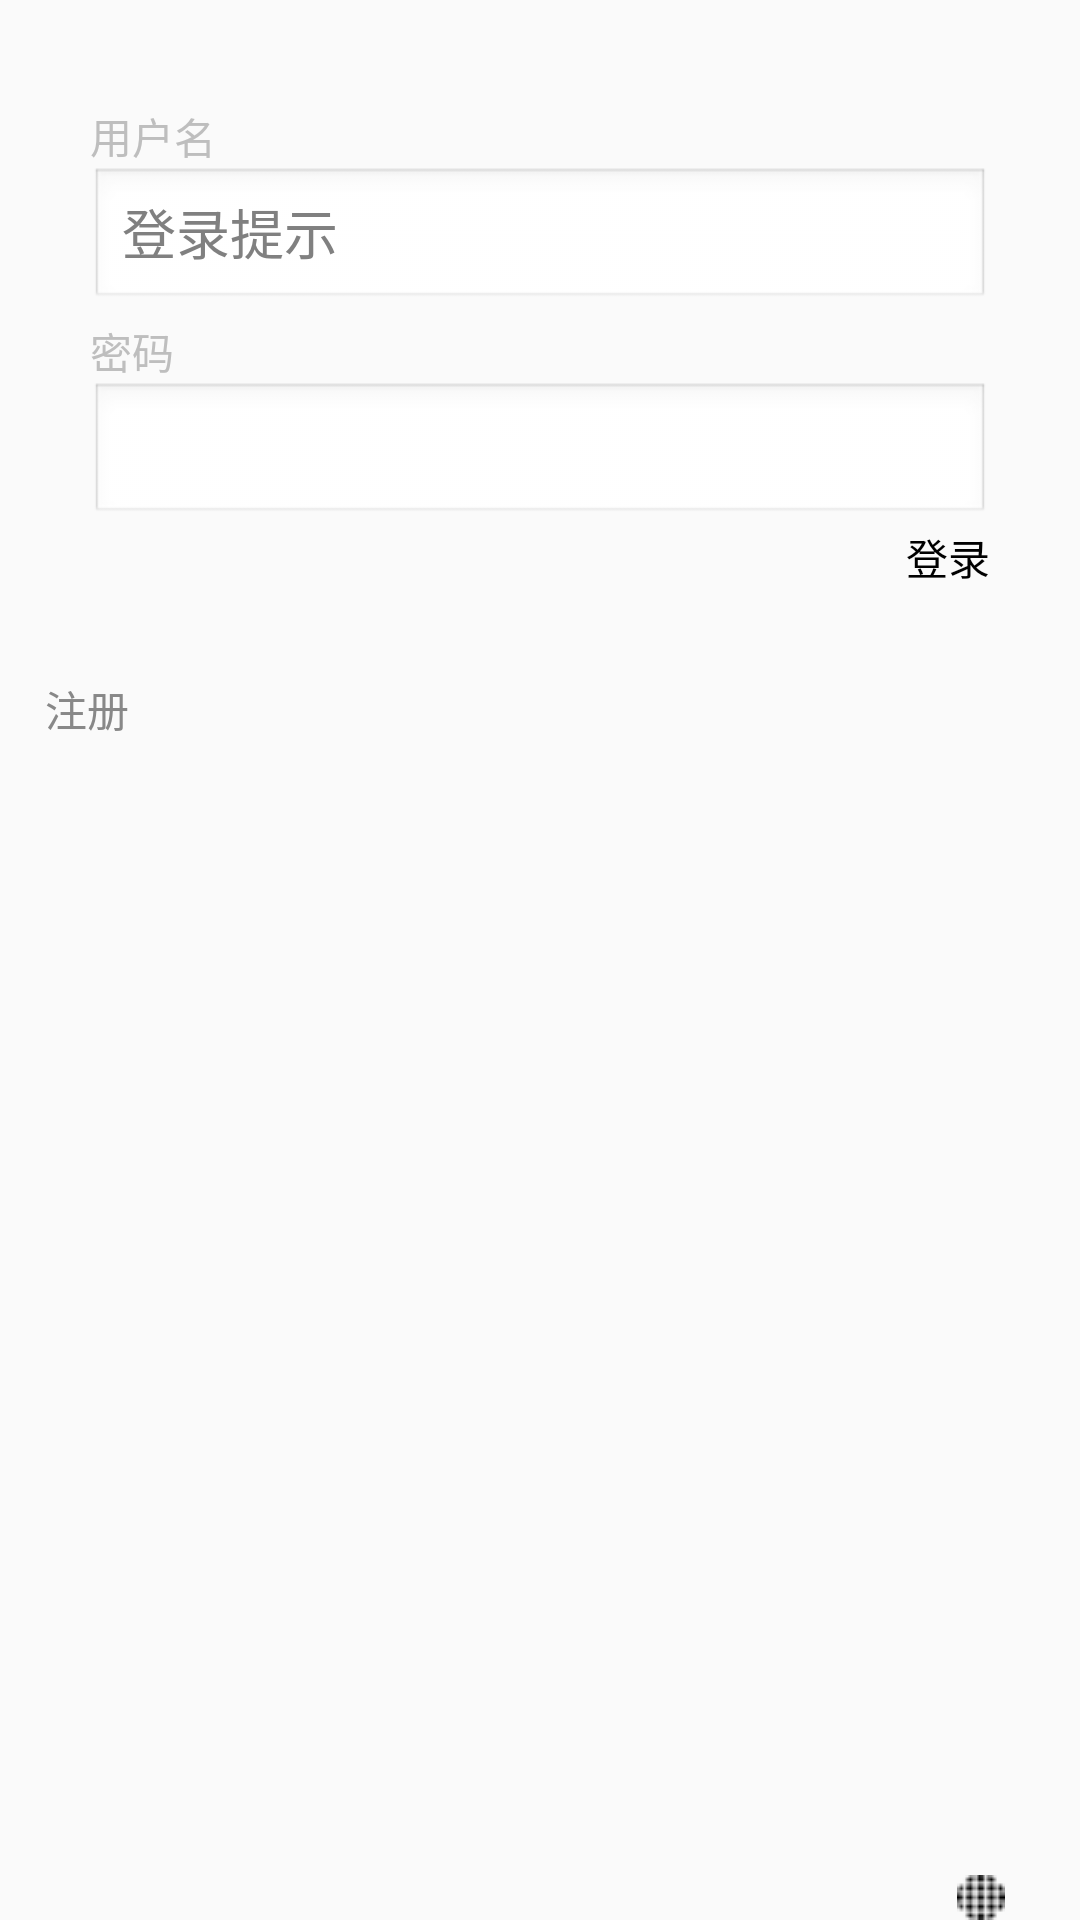

Named icons in this screenshot (1080 x 1920) and their centers, point (x, y):
dot: point (981, 1897)
